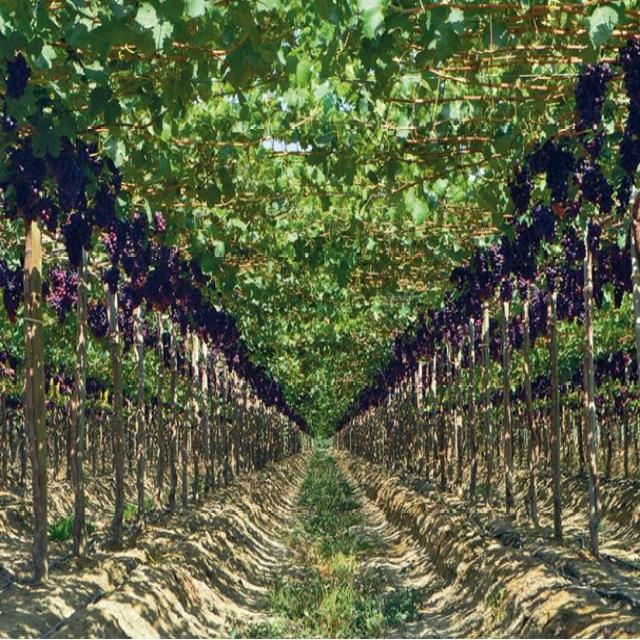row: (48, 443, 640, 640)
